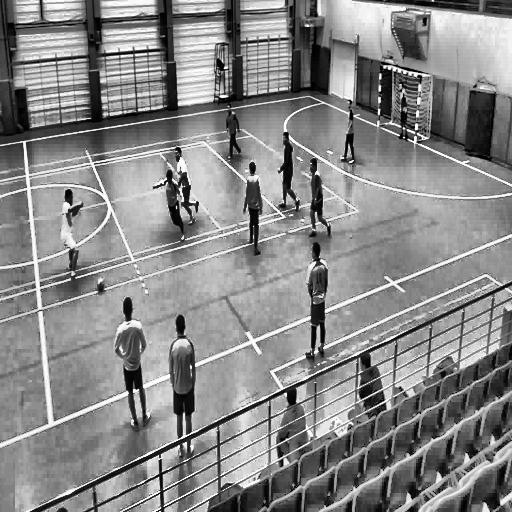ball: (97, 276, 106, 294)
